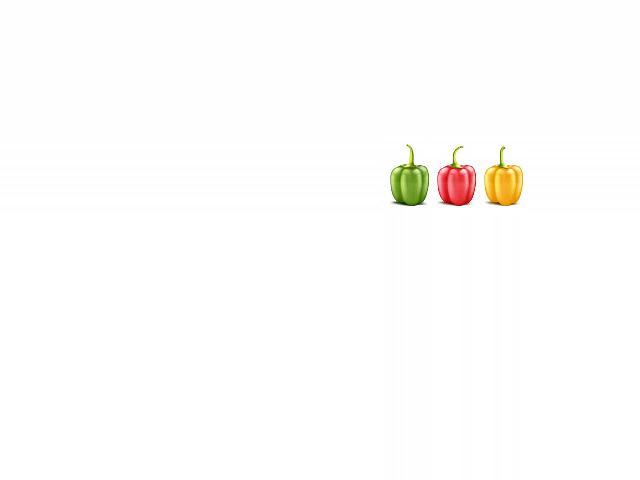bell_pepper: (385, 144, 428, 208)
